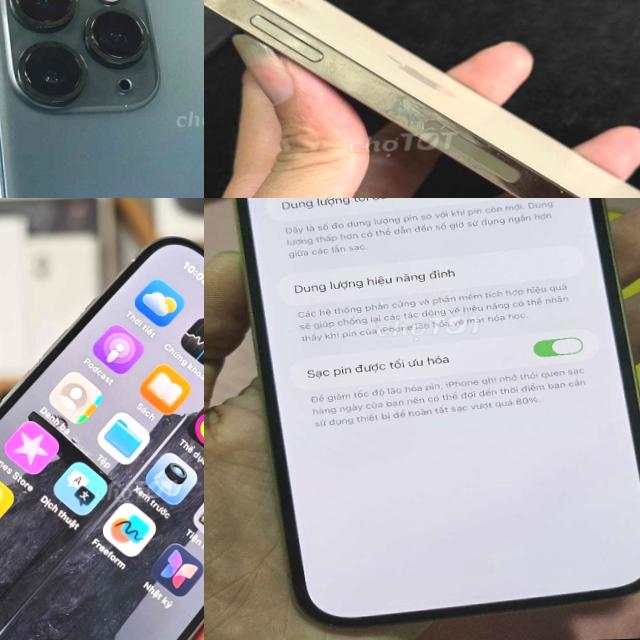gen_11: (0, 0, 204, 198)
gen_12_13: (205, 198, 640, 636)
gen_14: (204, 0, 640, 198)
gen_15: (0, 227, 204, 640)
scratch: (369, 84, 470, 150), (556, 181, 567, 198)
